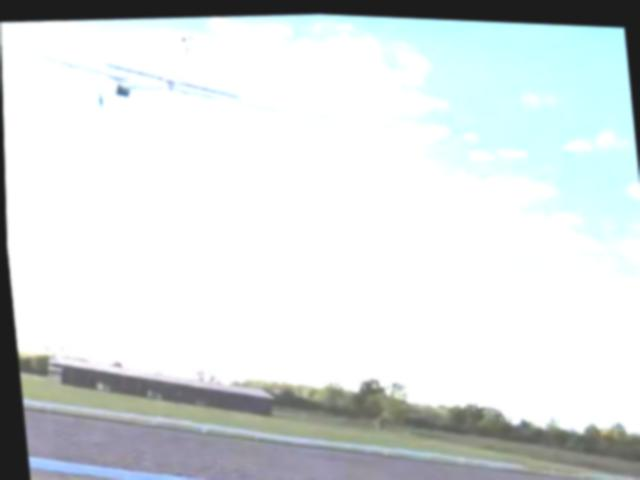iha: (0, 0, 332, 138)
